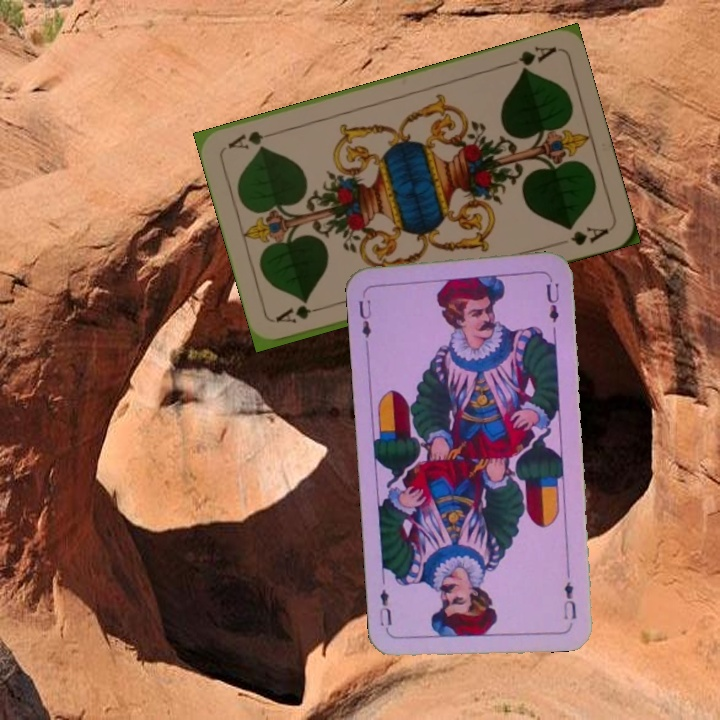EU: (355, 288, 374, 340), (559, 577, 579, 623)
GA: (501, 42, 559, 74), (271, 301, 331, 326)
